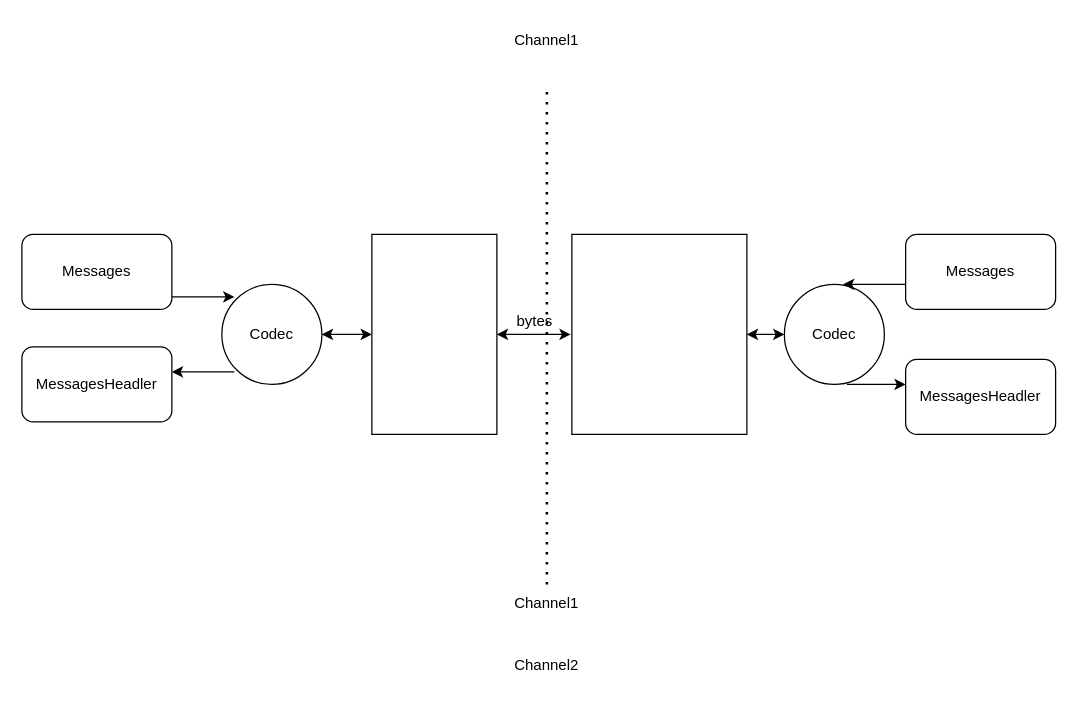
This 1078x705 diagram has some shape labels left out. Here are the shapes that lost their labels. From the top down, the centre of each, then its label:
At (434,333): "BinaryMessages".
At (659,333): "<BinnaryMessager>".
